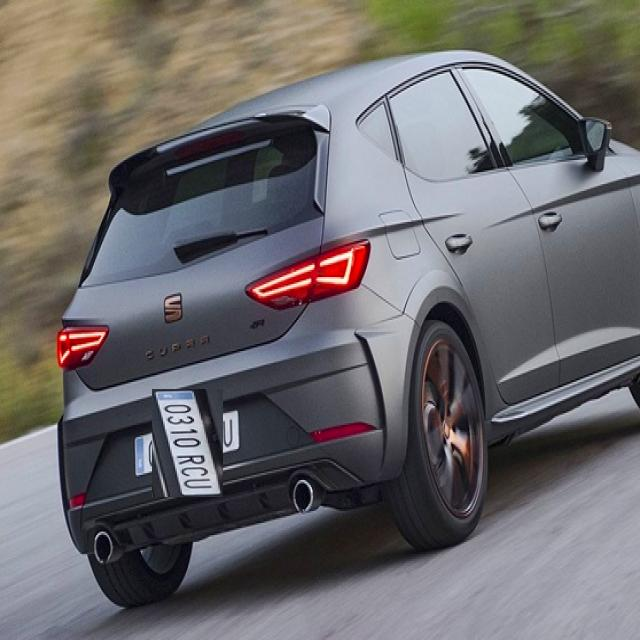License-Plate: (142, 398, 232, 488)
